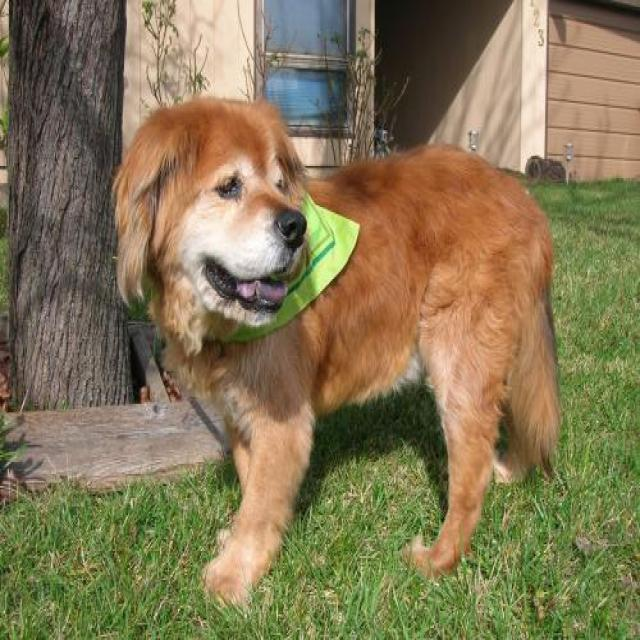Dogs: (110, 94, 561, 611)
